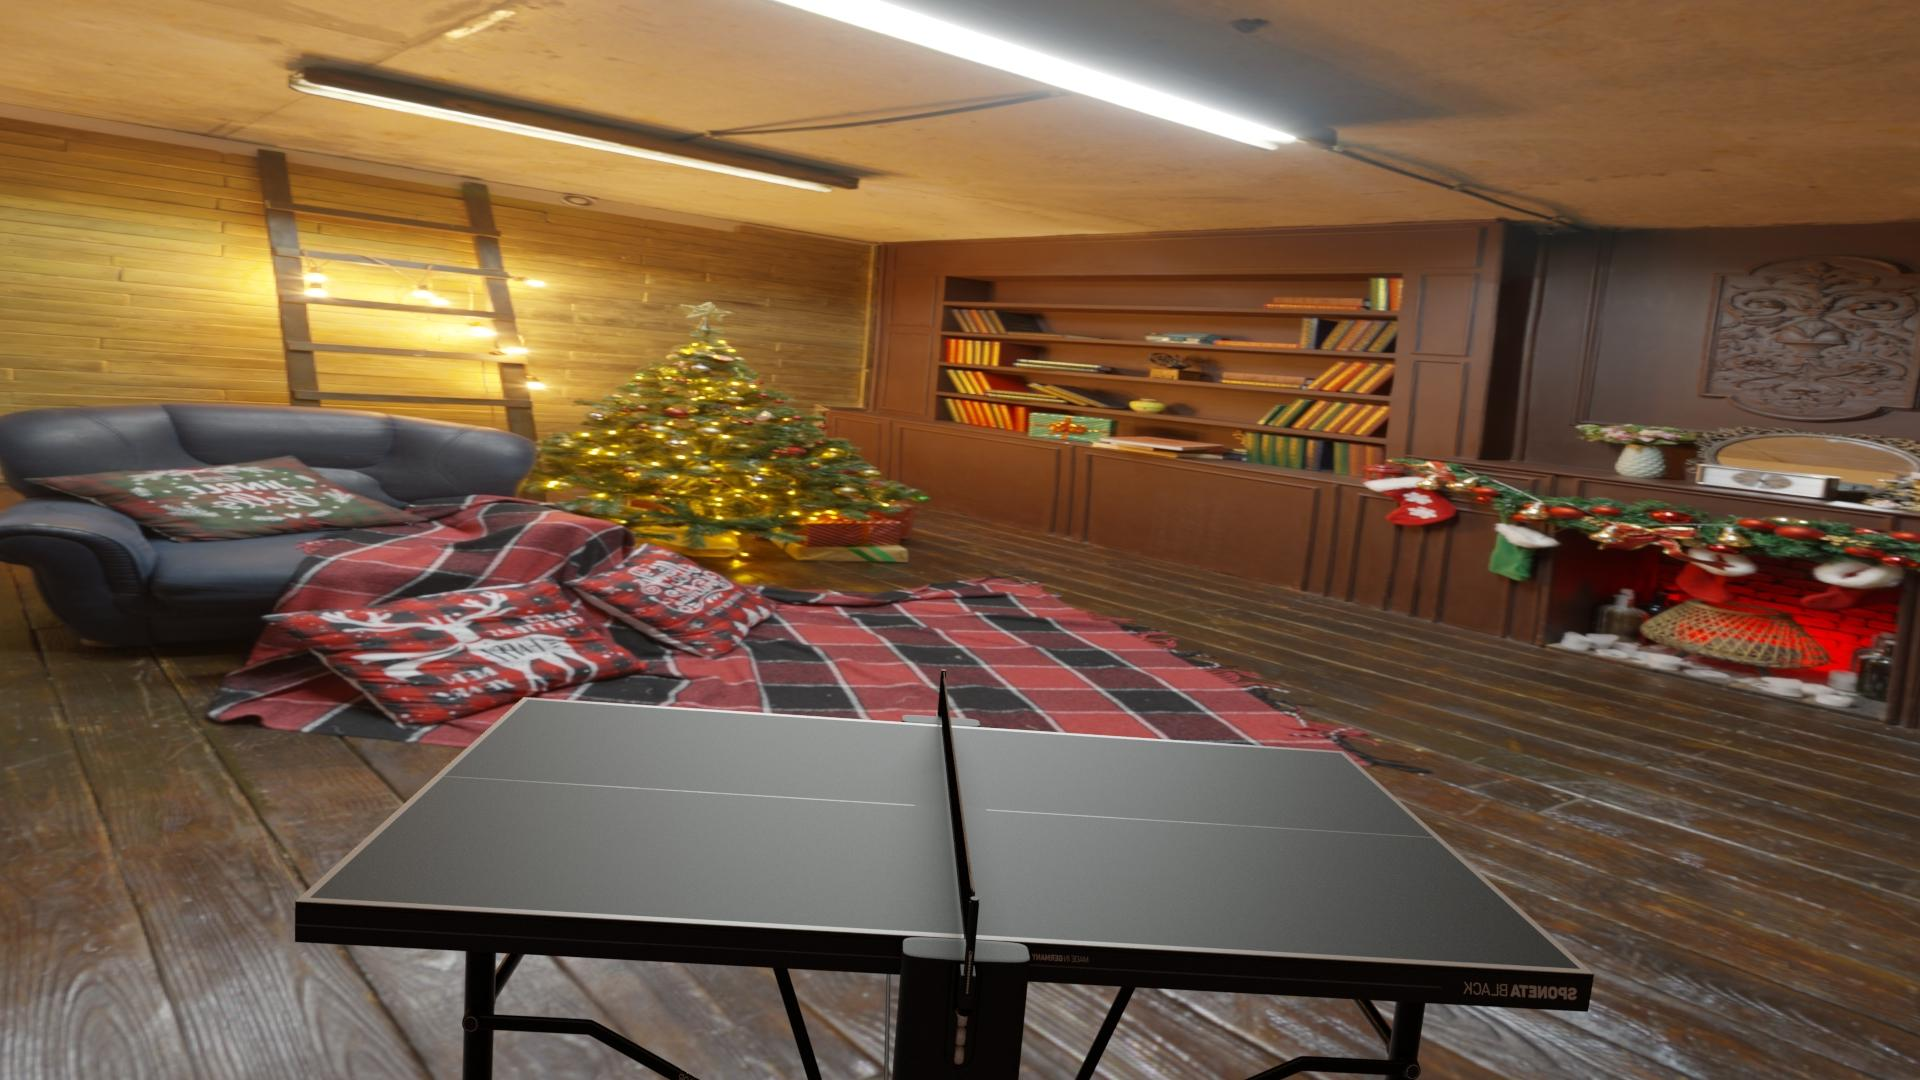table: (310, 699, 1581, 969)
